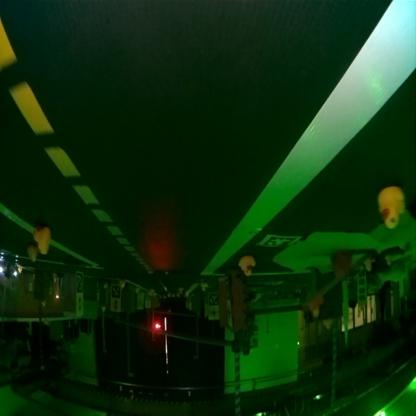Duckie: (378, 186, 404, 230), (33, 228, 50, 255), (238, 257, 254, 278), (27, 246, 37, 262)
Intersection sign: (210, 308, 217, 318)
QR code: (257, 235, 301, 247), (76, 275, 82, 293), (208, 295, 217, 306), (112, 288, 119, 300)
Signal sign: (112, 299, 120, 311)
Traffic light: (154, 323, 160, 331)
